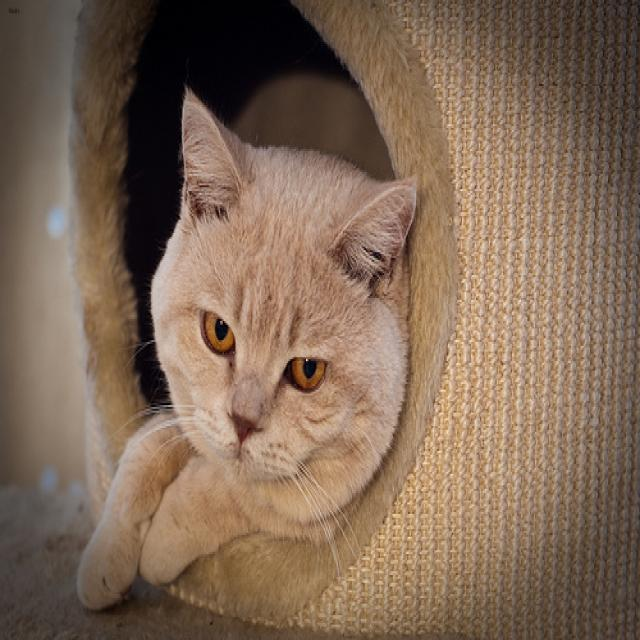British_Shorthair: (146, 88, 419, 529)
